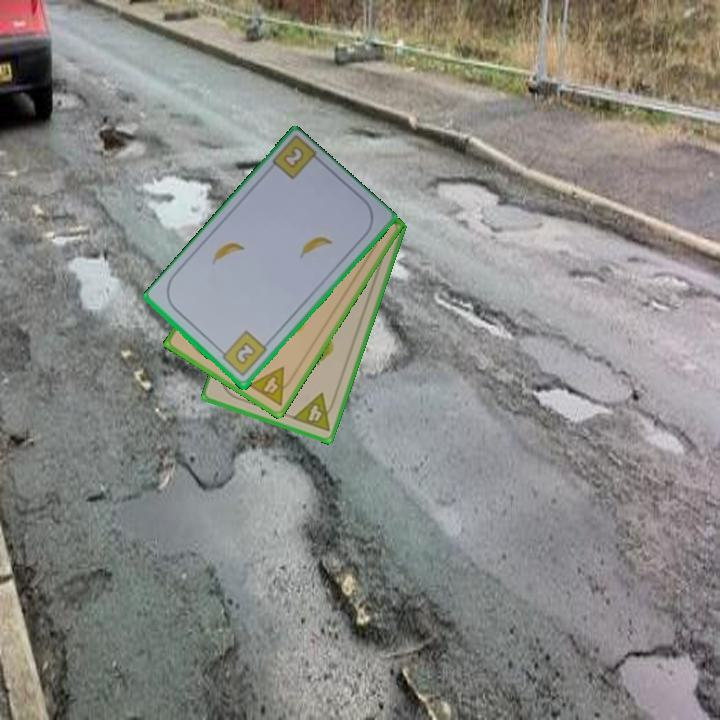2b: (215, 328, 270, 379), (279, 143, 307, 172)
4p: (245, 363, 298, 409), (289, 390, 339, 434)
